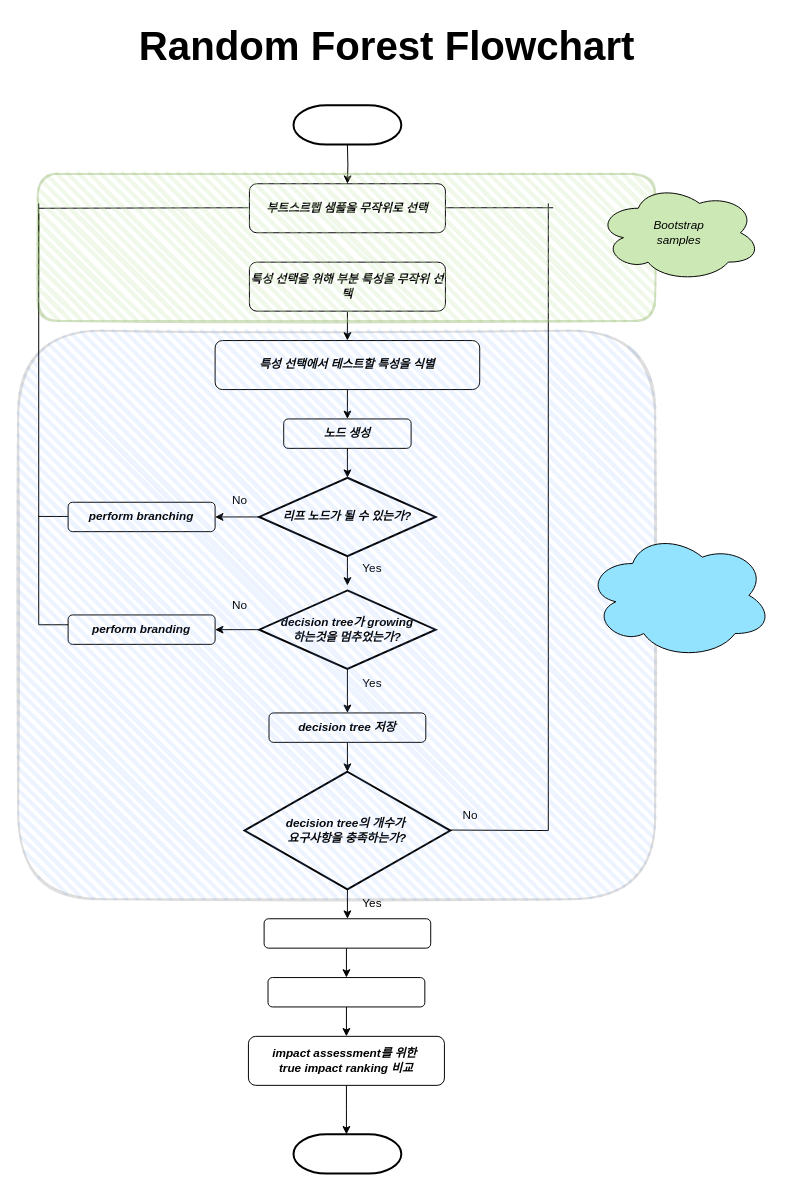
The diagram is 789 pixels wide and 1191 high, and some of its shapes have lost their labels. The box of each missing label's shape, as (x1, y1, x2, y2) in pixels:
End: (292, 1133, 402, 1174)
random forest 생성: (263, 918, 431, 948)
Start: (292, 104, 402, 145)
Tree Generation Training: (585, 531, 772, 659)
특성 sets 획득: (267, 977, 425, 1007)
